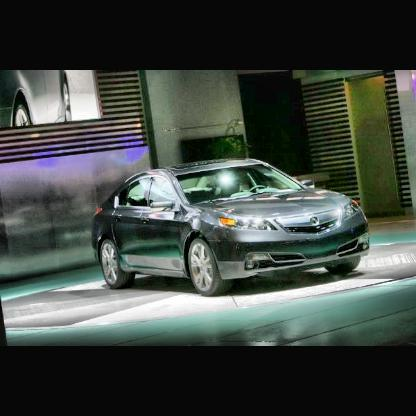Acura TL Sedan 2012: (92, 156, 373, 298)
